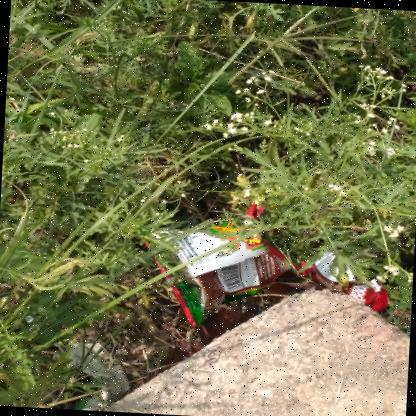Crisp packet: (137, 202, 310, 326)
Other plastic: (302, 251, 388, 313), (55, 342, 131, 410)
